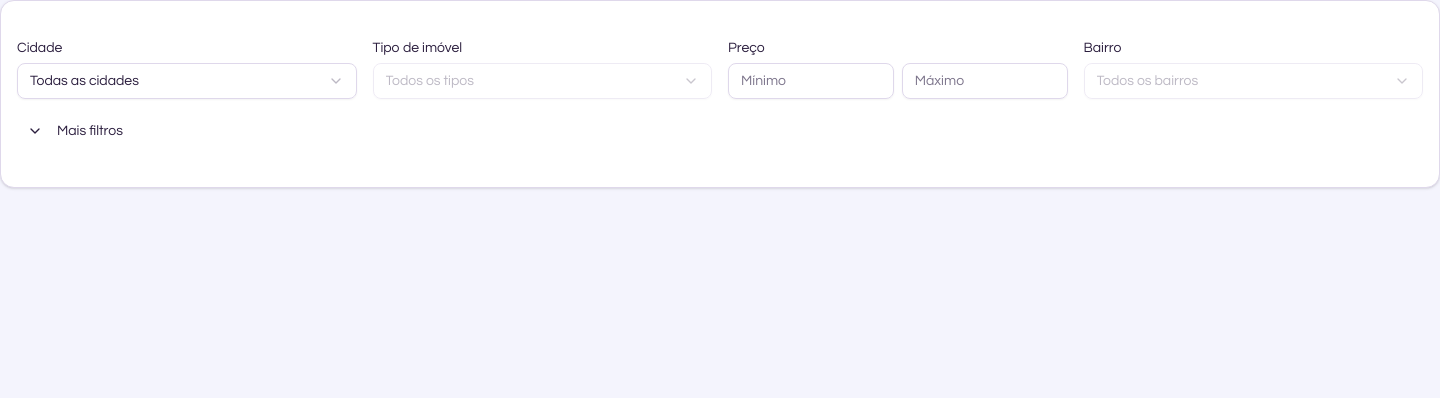
Test: MarketFiltersPanel › reveals the remaining filters on demand
Expected: the text "Cidade" is shown, x1=17 y1=41 x2=62 y2=55
Click the button "Mais filtros" at (75, 131), box x1=17 y1=115 x2=133 y2=147
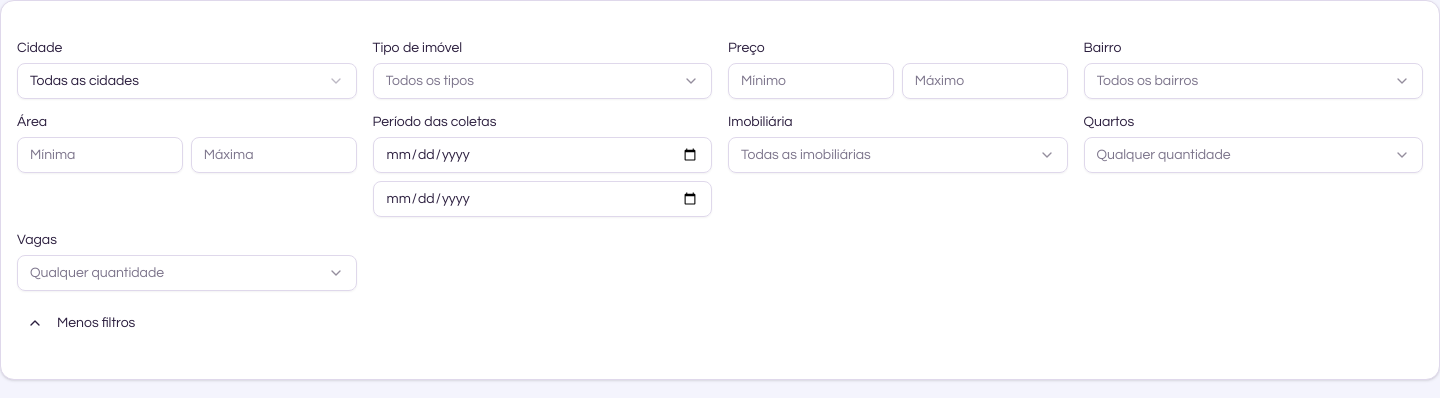
Expected: the text "Área" is shown, x1=17 y1=115 x2=47 y2=129
Expected: the text "Período das coletas" is shown, x1=372 y1=115 x2=496 y2=129
Expected: the text "Imobiliária" is shown, x1=728 y1=115 x2=793 y2=129
